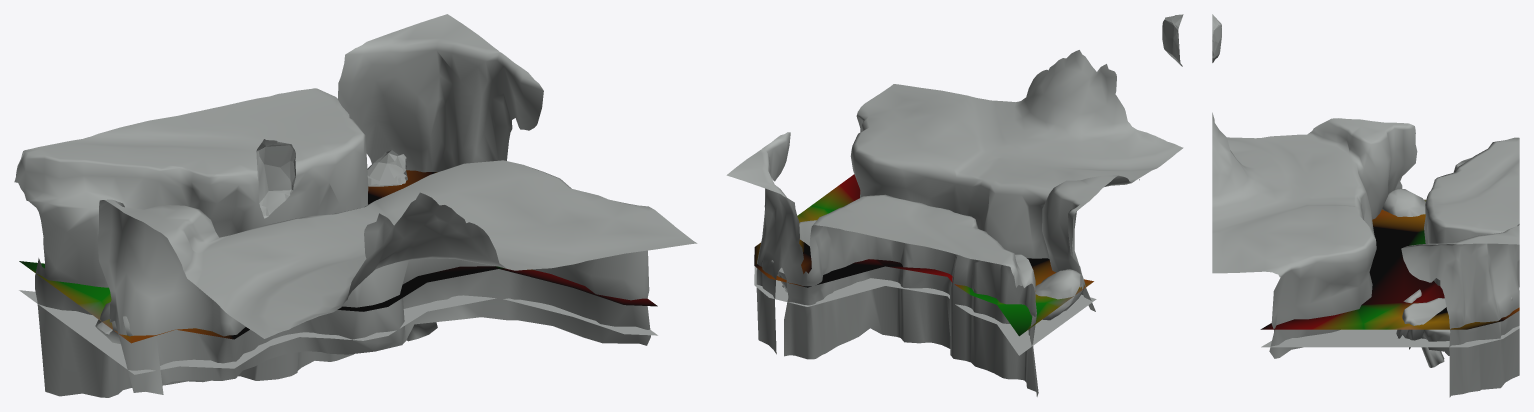
3 renders of one model, left to right at view 1: azimuth 30°, elevation 25°; view 2: azimuth 150°, elevation 25°; view 3: azimuth 270°, elevation 25°, orthographic. The views are drawn at different scales.
Parts seen in each view (by area): view 1: G:\FFXIV-MapTools\exports\w1f4\bg\ffxiv\wil_w1\fld\w1f4\bgpl (×16); view 2: G:\FFXIV-MapTools\exports\w1f4\bg\ffxiv\wil_w1\fld\w1f4\bgpl (×16); view 3: G:\FFXIV-MapTools\exports\w1f4\bg\ffxiv\wil_w1\fld\w1f4\bgpl (×17).
Part boxes in pixels (bbox=[...]): G:\FFXIV-MapTools\exports\w1f4\bg\ffxiv\wil_w1\fld\w1f4\bgpl (×16): bbox=[14, 14, 697, 397]; G:\FFXIV-MapTools\exports\w1f4\bg\ffxiv\wil_w1\fld\w1f4\bgpl (×16): bbox=[726, 14, 1183, 396]; G:\FFXIV-MapTools\exports\w1f4\bg\ffxiv\wil_w1\fld\w1f4\bgpl (×17): bbox=[1212, 14, 1519, 397].
Size of the model in its own units: 128 by 117 by 128.
